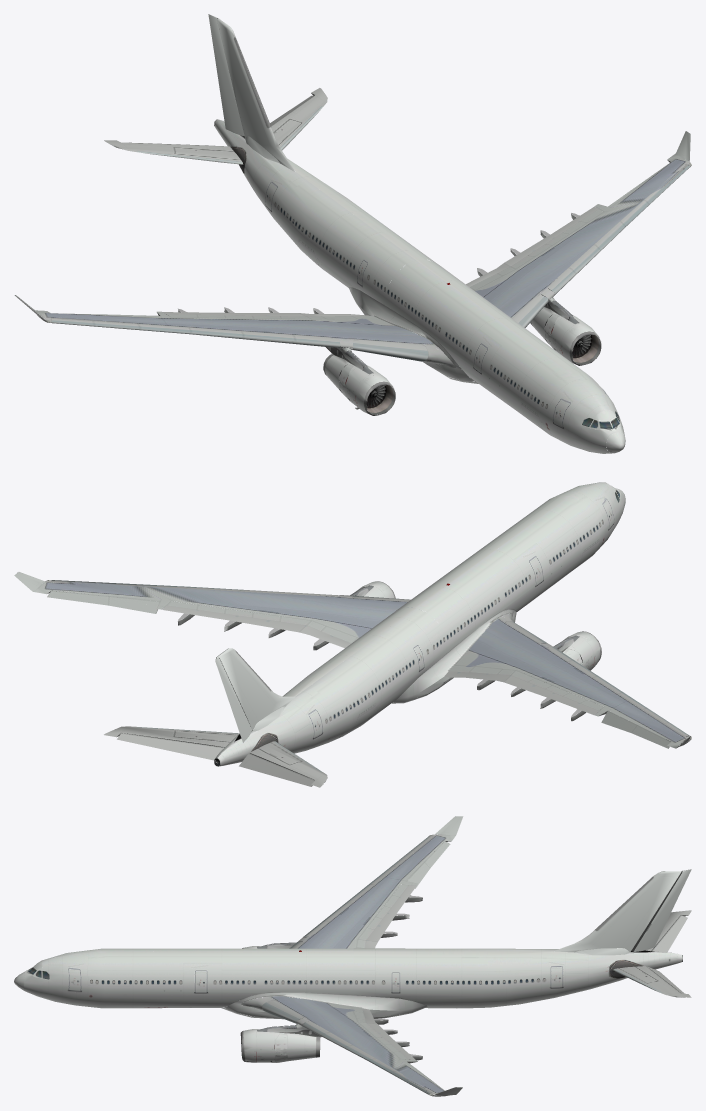
The picture shows the model from 3 angles, top to bottom: view 1: azimuth 30°, elevation 25°; view 2: azimuth 150°, elevation 25°; view 3: azimuth 270°, elevation 25°; orthographic projection. The views are drawn at different scales.
Parts seen in each view (by area): view 1: Object_9; view 2: Object_9; view 3: Object_9.
Boxes of the visible parts, x1,y1,x2,y2 form: Object_9: (14,14,691,453); Object_9: (14,482,691,787); Object_9: (14,816,691,1096).
Bounding box in the file's own units: 60.28 × 15.43 × 63.69.
Materials: 2 (2 with a texture image).
